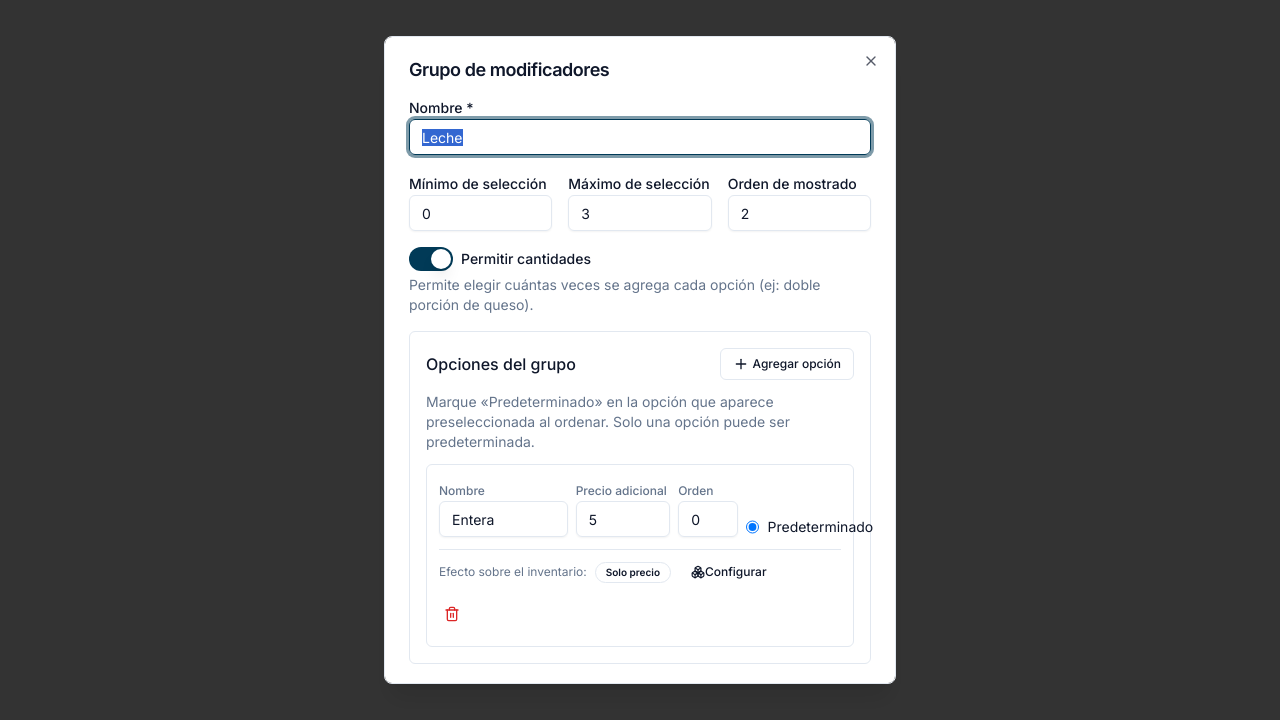
Test: the inventory effect of a modifier option (R28) › refuses to save an effect that is missing its insumo, with a Spanish message
What coordinates should you click on to do the following:
click the button with aria-label "efecto de inventario de la opción"
I would click on:
 (729, 572)
Its box is [679,558,779,586].
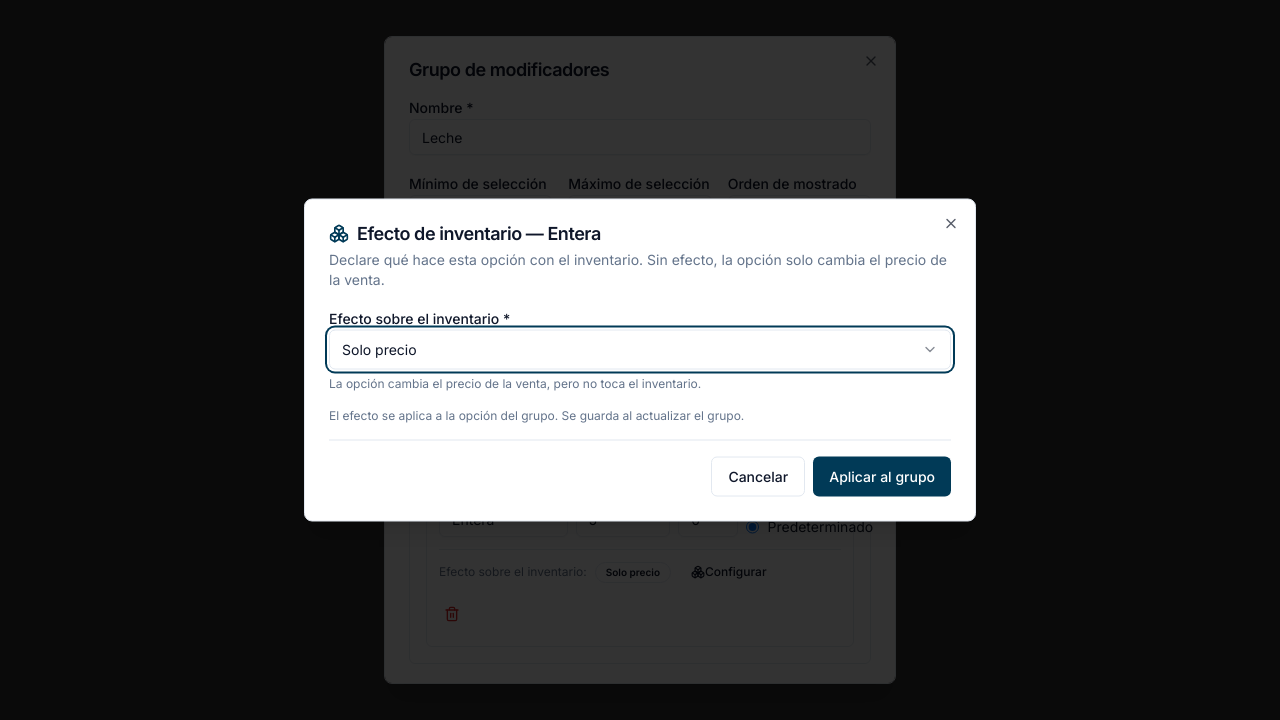
Now the dropdown with test id "modifier-effect-select" is shown
What coordinates should you click on to do the following:
click the dropdown with test id "modifier-effect-select"
I would click on:
 (379, 349)
Its box is [329,330,951,370].
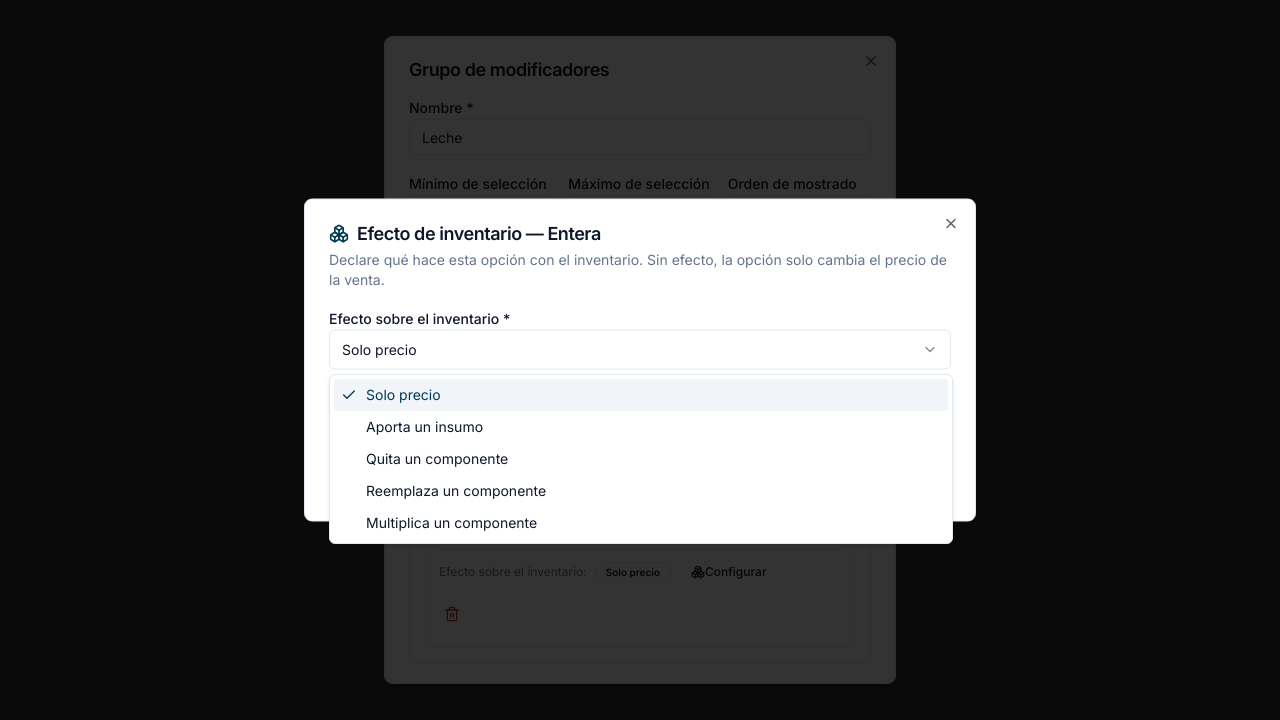
What coordinates should you click on to do the following:
click the option "Aporta un insumo"
I would click on:
 (424, 426)
Its box is [366,418,483,435].
(page scrolled)
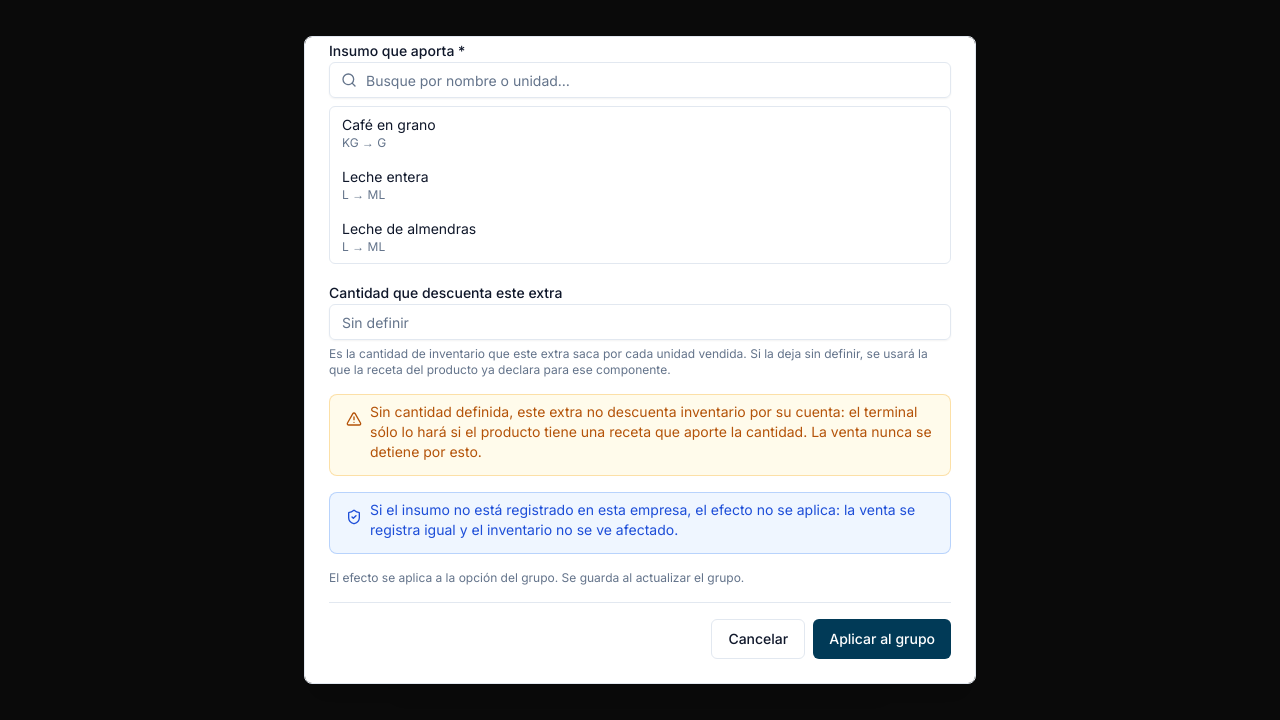
What coordinates should you click on to do the following:
click the button with test id "modifier-effect-save"
I would click on:
 (882, 639)
Its box is [813,619,951,659].
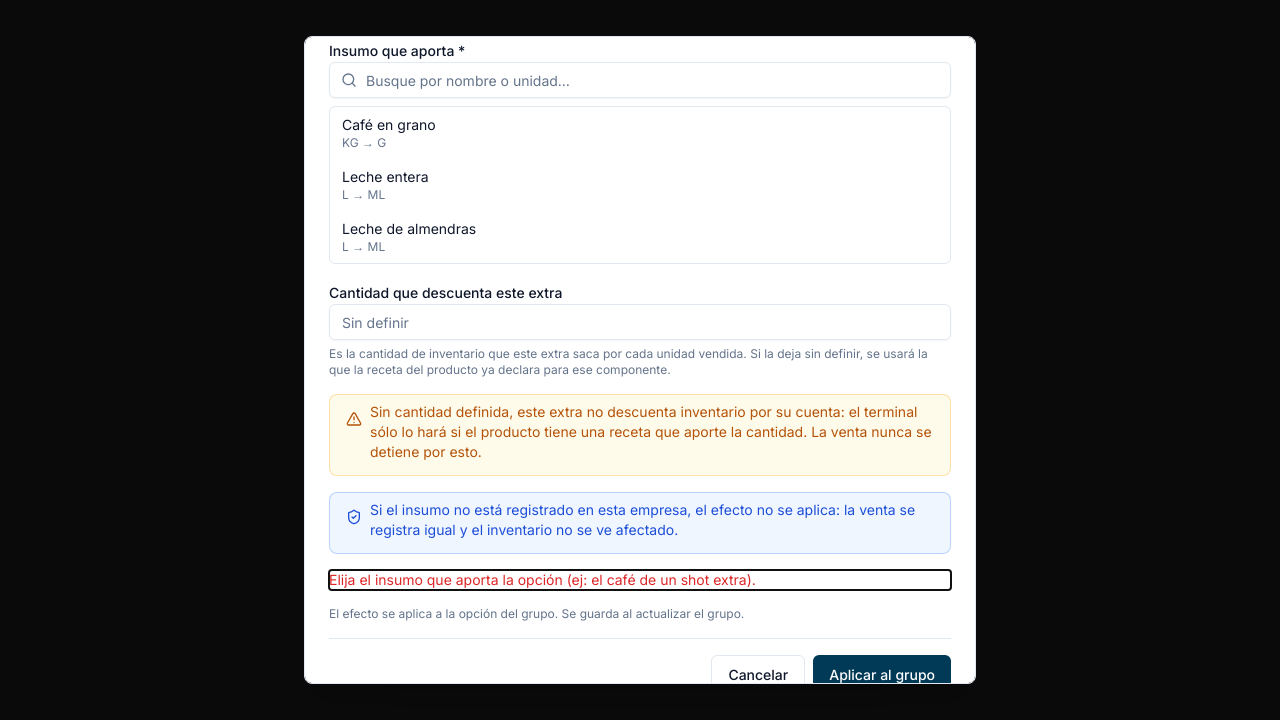
Now the message with test id "modifier-effect-error" shows "insumo que aporta", box [329,571,756,588]
